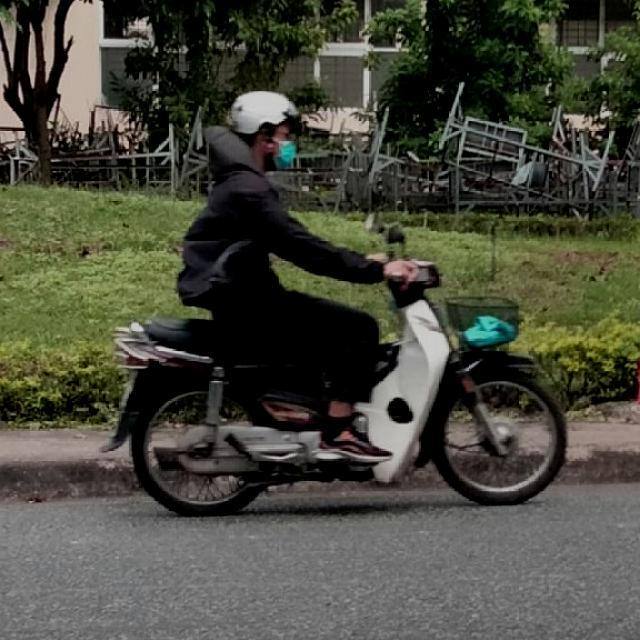Helmet: (226, 85, 302, 173)
